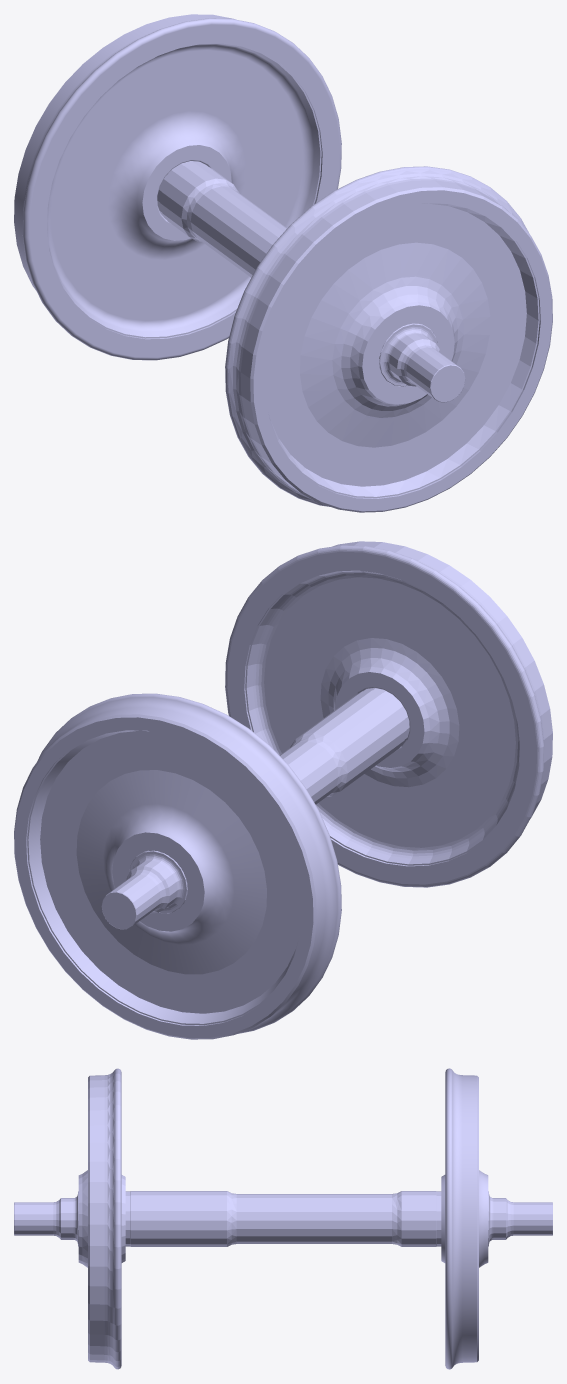
The picture shows the model from 3 angles, top to bottom: view 1: azimuth 30°, elevation 25°; view 2: azimuth 150°, elevation 25°; view 3: azimuth 270°, elevation 25°; orthographic projection. The views are drawn at different scales.
Parts seen in each view (by area): view 1: 零件几何体; view 2: 零件几何体; view 3: 零件几何体.
Boxes of the visible parts, bbox=[...] form: 零件几何体: bbox=[14, 14, 552, 512]; 零件几何体: bbox=[14, 541, 552, 1039]; 零件几何体: bbox=[14, 1068, 552, 1369].
Size of the model in its own units: 49.38 by 49.43 by 88.5.
